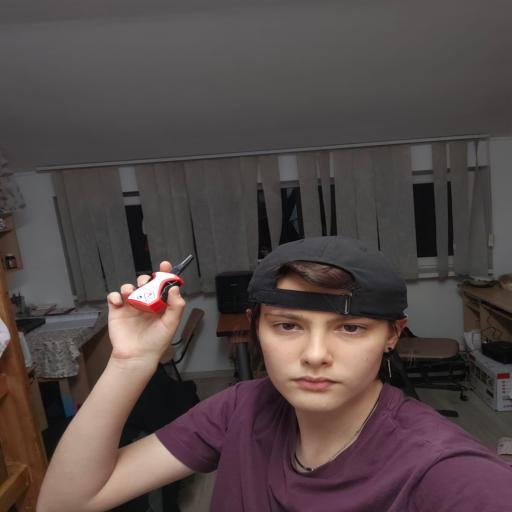Super Glue: (123, 254, 194, 311)
